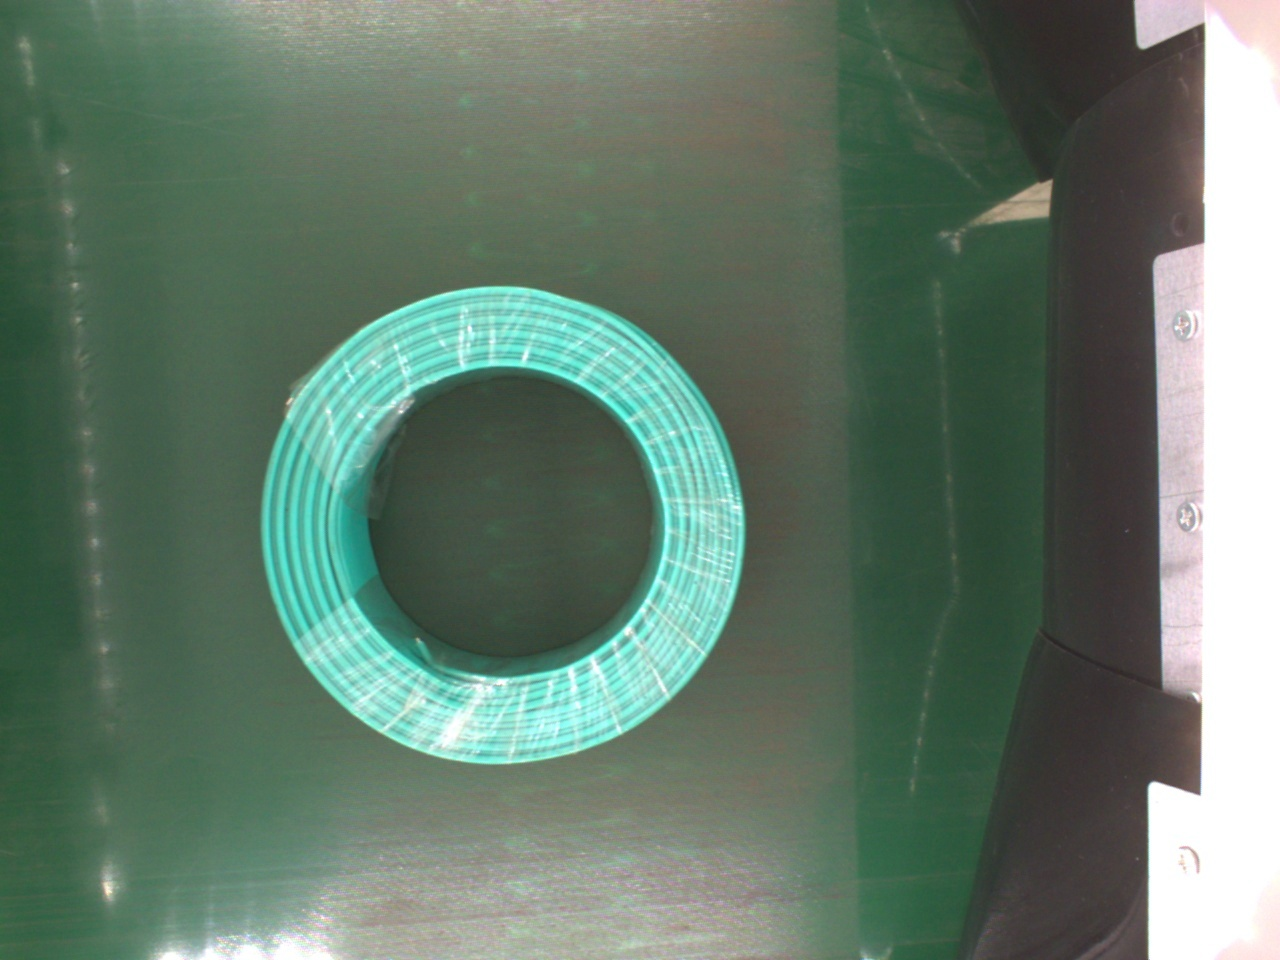green: (246, 286, 743, 767)
